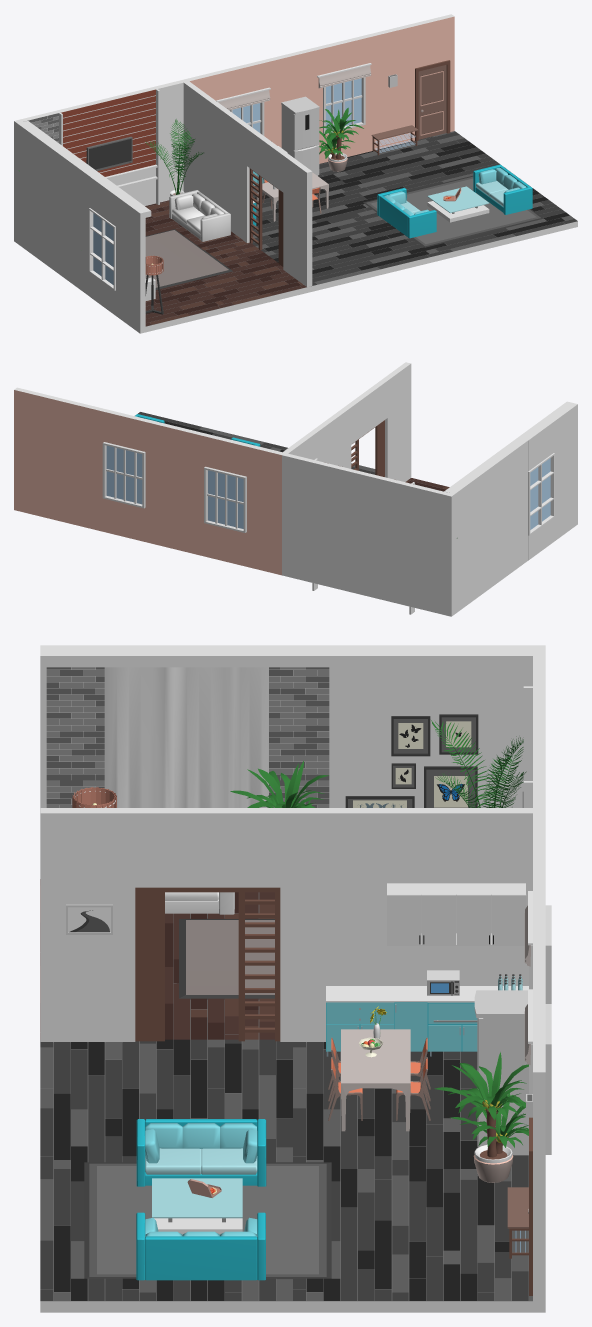
Rendered from room_19.glb.
3 renders of one model, top to bottom at view 1: azimuth 30°, elevation 25°; view 2: azimuth 150°, elevation 25°; view 3: azimuth 270°, elevation 25°, orthographic. The views are drawn at different scales.
Visible parts, largest first — view 1: Walls_006.055, Walls_177.005, Walls_006.056, floor_007.001, floor_007.004, Walls_006.062, wall_008.002, Walls_046.002, floor_016.003, Walls_006.065, Walls_177.009, Walls_006.054 (+35 smaller); view 2: Walls_006.062, Walls_177.005, Walls_006.055, Walls_177.009, Walls_177.010, Walls_006.065, Walls_006.054, window_022.001, window_022.002, Walls_006.056, window_023.002, Walls_006.057 (+9 smaller); view 3: Walls_006.056, floor_007.001, floor_007.004, Walls_006.055, Curtains_027.010, Walls_006.054, floor_007.003, carpet_004.005, Walls_046.002, Walls_006.057, floor_007.002, Walls_003.055 (+35 smaller).
Part boxes in pixels (bbox=[...]): Walls_006.055: bbox=[14, 119, 95, 296]; Walls_177.005: bbox=[361, 14, 454, 152]; Walls_006.056: bbox=[183, 81, 251, 242]; floor_007.001: bbox=[319, 131, 514, 200]; floor_007.004: bbox=[252, 209, 441, 285]; Walls_006.062: bbox=[20, 79, 185, 205]; wall_008.002: bbox=[61, 89, 155, 176]; Walls_046.002: bbox=[145, 131, 577, 332]; floor_016.003: bbox=[193, 241, 306, 306]; Walls_006.065: bbox=[115, 194, 145, 333]; Walls_177.009: bbox=[260, 46, 323, 163]; Walls_006.054: bbox=[283, 154, 312, 287]; Walls_006.062: bbox=[282, 453, 448, 615]; Walls_177.005: bbox=[14, 387, 106, 531]; Walls_006.055: bbox=[446, 439, 527, 616]; Walls_177.009: bbox=[145, 419, 208, 556]; Walls_177.010: bbox=[246, 444, 284, 575]; Walls_006.065: bbox=[548, 403, 577, 541]; Walls_006.054: bbox=[382, 362, 411, 481]; window_022.001: bbox=[102, 442, 145, 508]; window_022.002: bbox=[204, 466, 246, 532]; Walls_006.056: bbox=[283, 406, 351, 468]; window_023.002: bbox=[528, 453, 554, 535]; Walls_006.057: bbox=[346, 379, 387, 444]; Walls_006.056: bbox=[280, 808, 532, 1042]; floor_007.001: bbox=[293, 1169, 532, 1300]; floor_007.004: bbox=[40, 1039, 292, 1168]; Walls_006.055: bbox=[239, 645, 545, 807]; Curtains_027.010: bbox=[104, 667, 268, 807]; Walls_006.054: bbox=[40, 808, 135, 1042]; floor_007.003: bbox=[293, 1042, 528, 1168]; carpet_004.005: bbox=[84, 1162, 331, 1278]; Walls_046.002: bbox=[40, 892, 532, 1312]; Walls_006.057: bbox=[135, 808, 280, 887]; floor_007.002: bbox=[40, 1169, 292, 1300]; Walls_003.055: bbox=[40, 650, 532, 667].
Bounding box in the file's own units: 16.05 × 4.52 × 8.09.
1 material, 1 textured.
